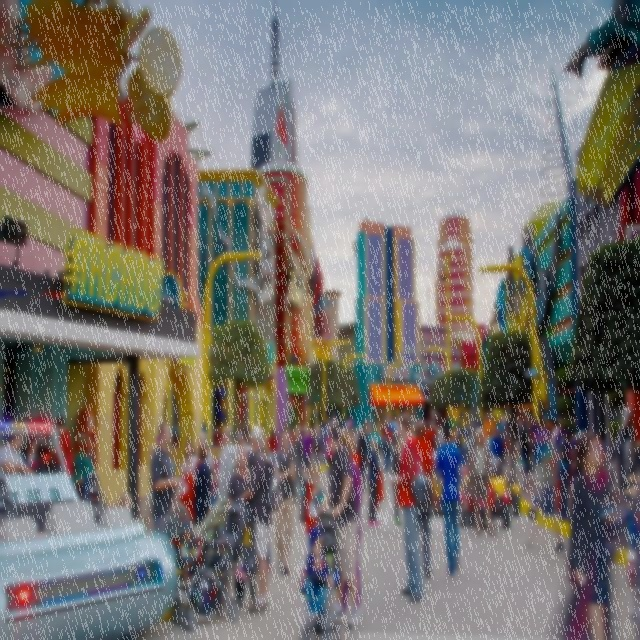pessoa: (564, 430, 624, 640), (320, 422, 362, 632), (387, 410, 432, 605), (238, 424, 274, 616), (434, 416, 470, 578), (226, 443, 256, 610), (238, 424, 264, 591), (150, 420, 182, 538), (342, 430, 362, 616), (466, 424, 498, 538), (140, 435, 177, 532), (414, 419, 436, 579), (274, 426, 297, 577), (304, 526, 330, 622), (556, 423, 577, 522), (216, 424, 240, 506), (616, 406, 638, 494), (366, 434, 385, 532), (192, 442, 212, 526), (48, 415, 74, 478), (304, 465, 324, 535), (390, 436, 405, 527), (178, 454, 196, 522), (624, 440, 640, 510), (72, 452, 95, 498), (292, 424, 304, 506), (518, 416, 534, 477), (22, 434, 46, 474), (346, 432, 362, 490), (195, 430, 213, 478), (22, 433, 42, 474), (356, 424, 367, 492), (180, 438, 198, 478), (536, 418, 552, 462), (300, 423, 314, 469), (381, 422, 393, 474), (312, 424, 323, 476), (324, 426, 334, 468), (381, 423, 393, 456), (324, 414, 338, 441), (504, 412, 512, 457), (367, 424, 377, 458), (500, 411, 508, 452), (380, 417, 388, 456), (482, 412, 494, 438), (372, 426, 382, 456), (551, 419, 562, 446), (522, 417, 528, 465), (268, 426, 278, 453), (600, 436, 608, 469), (262, 433, 271, 459), (514, 411, 520, 450), (354, 426, 362, 454), (429, 420, 436, 452), (234, 432, 243, 449), (376, 420, 381, 448), (497, 415, 504, 435), (518, 416, 522, 448), (392, 417, 398, 438), (455, 426, 460, 451), (346, 413, 354, 428), (347, 424, 355, 438), (364, 418, 369, 440), (388, 418, 394, 432), (298, 419, 308, 427), (343, 420, 349, 432), (389, 416, 395, 428), (456, 424, 459, 448), (410, 419, 414, 436), (436, 424, 440, 440), (260, 422, 265, 434), (492, 417, 495, 437), (573, 414, 577, 428), (282, 419, 288, 428), (340, 414, 344, 426), (418, 416, 424, 423)
